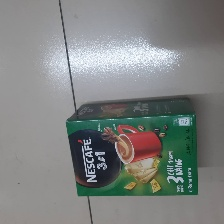Nes Rang: (63, 97, 200, 196)
